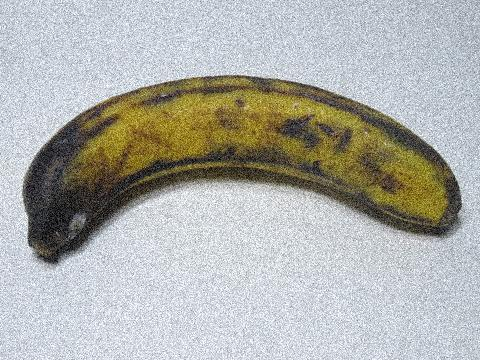overripe: (14, 60, 471, 281)
rotten: (0, 109, 160, 254)
